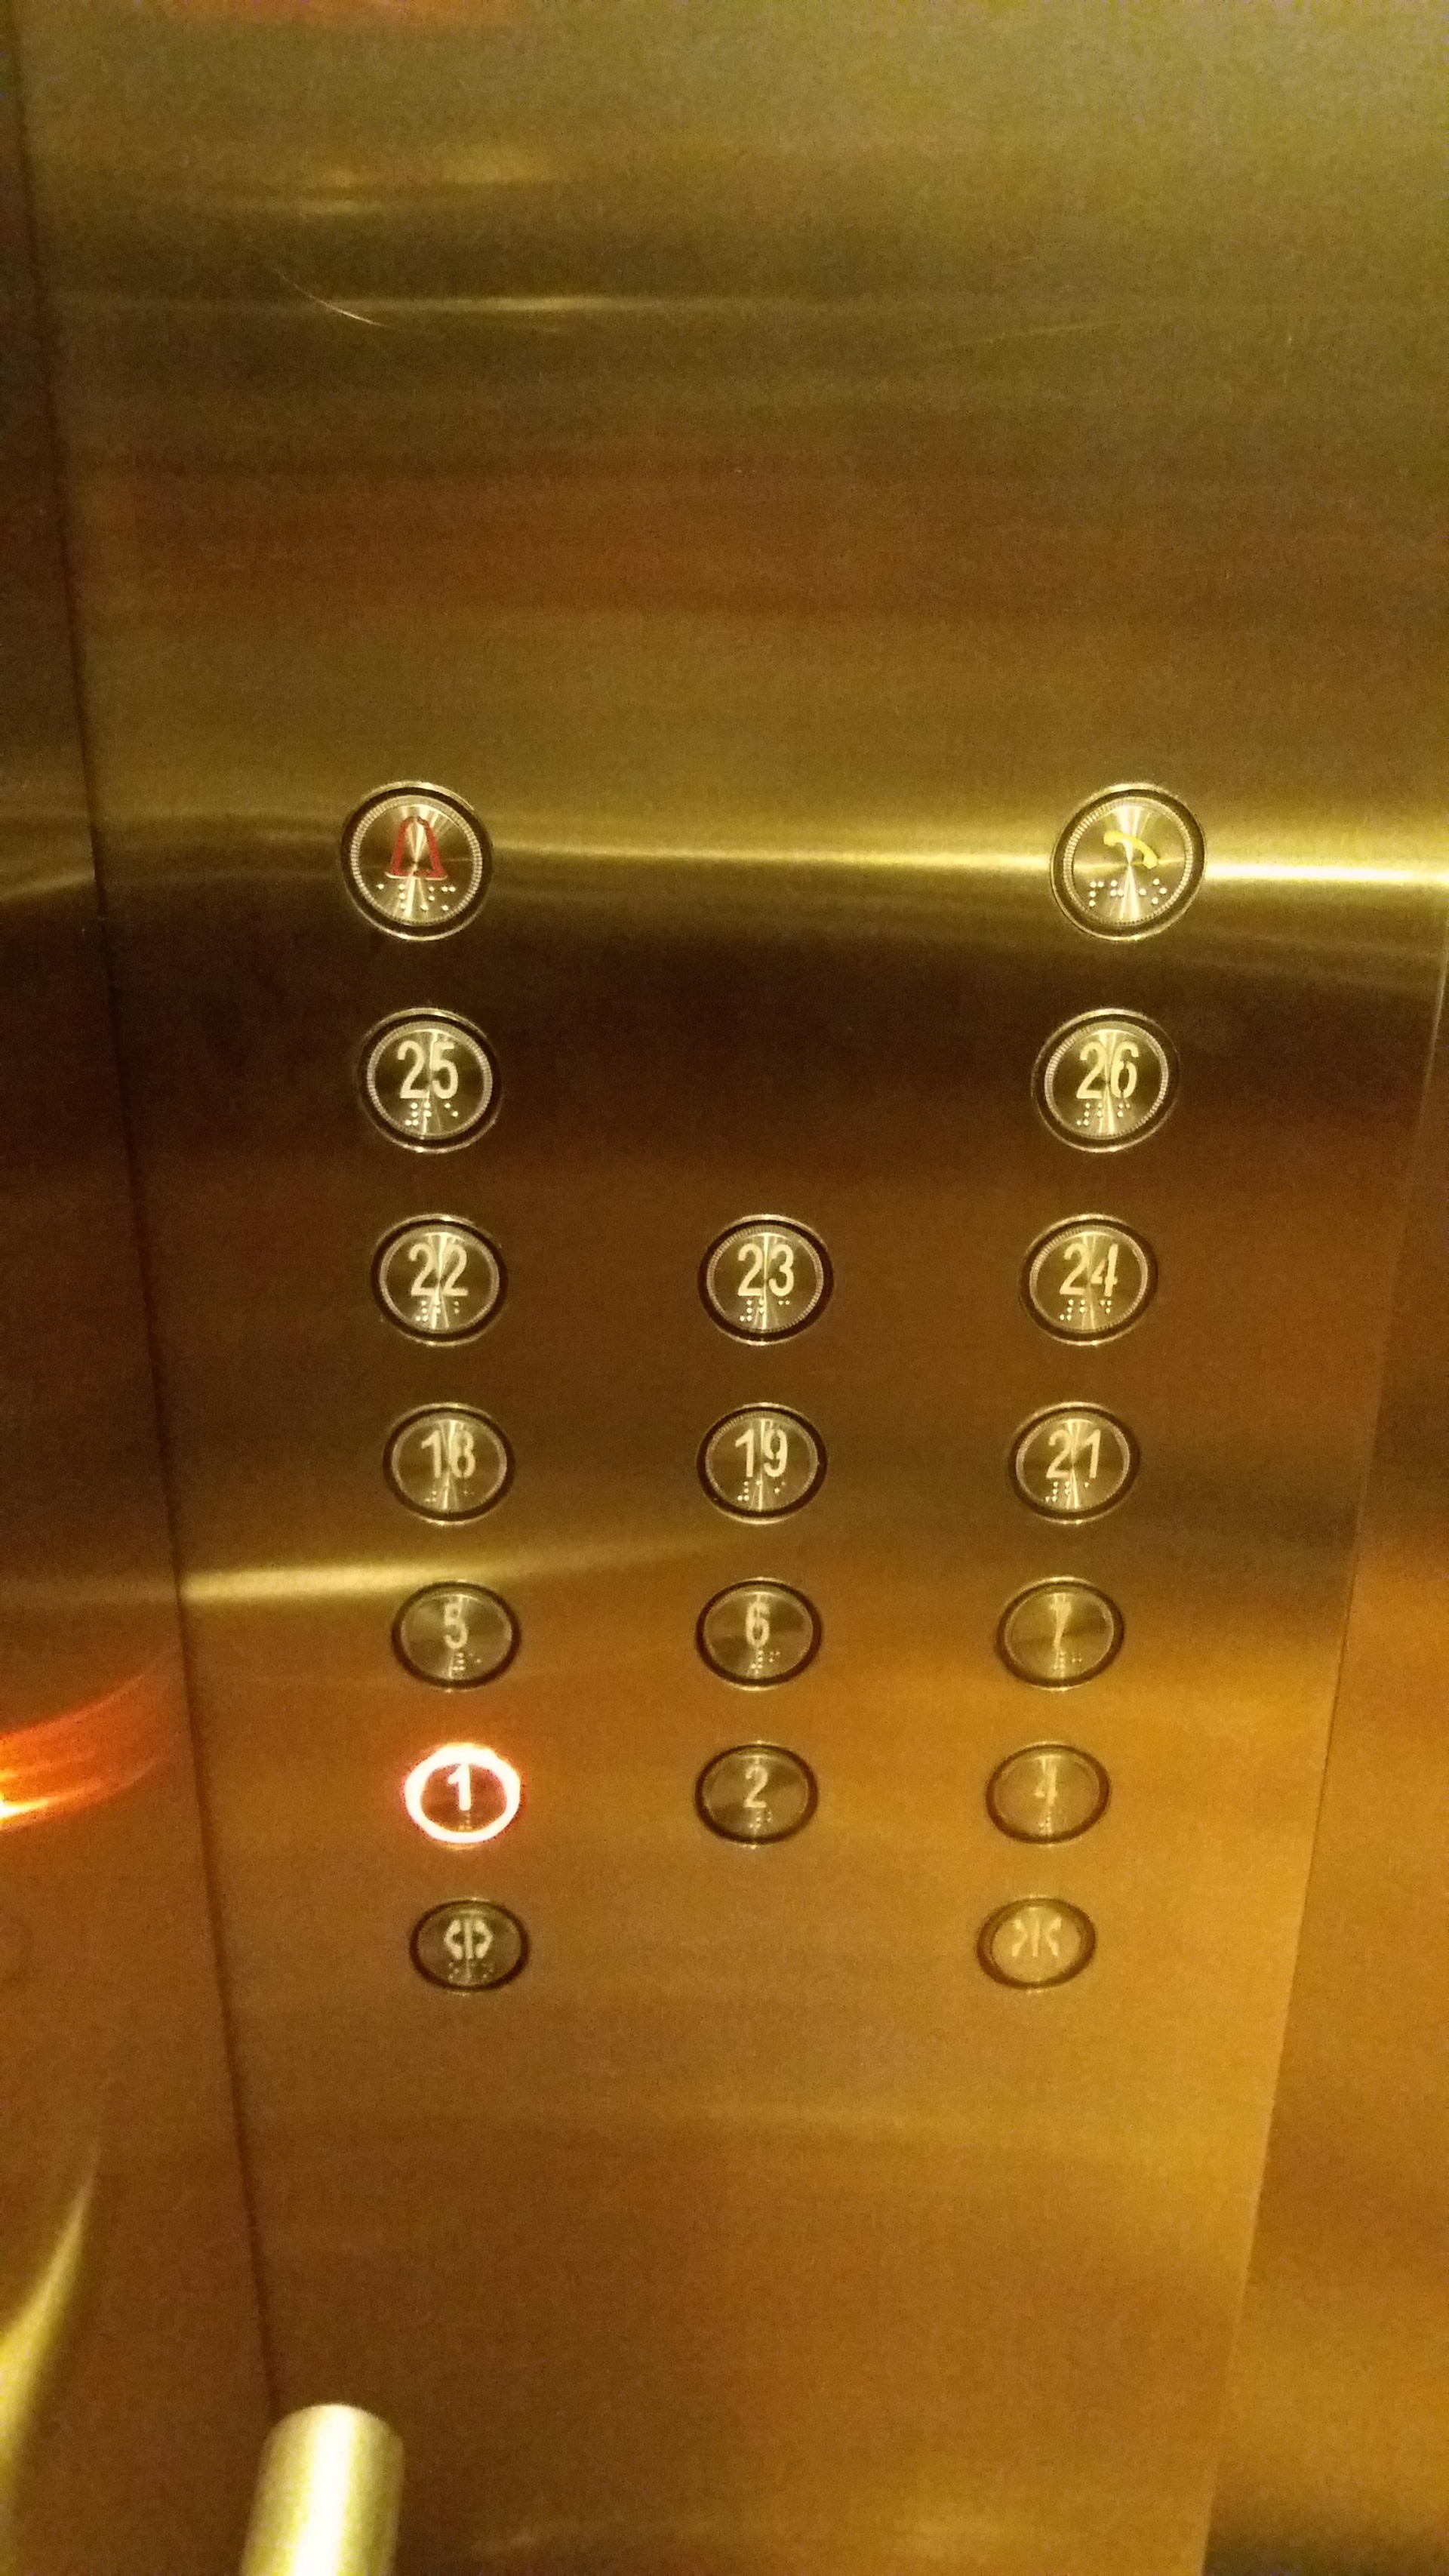1: (400, 1741, 527, 1849)
18: (377, 1398, 518, 1527)
19: (692, 1398, 833, 1527)
2: (692, 1741, 819, 1851)
21: (1001, 1398, 1145, 1527)
22: (364, 1210, 513, 1352)
23: (688, 1208, 839, 1350)
24: (1010, 1210, 1161, 1352)
25: (350, 1005, 510, 1159)
26: (1028, 1003, 1187, 1157)
4: (984, 1739, 1111, 1847)
5: (387, 1578, 522, 1691)
6: (692, 1576, 826, 1690)
7: (991, 1575, 1125, 1693)
alarm: (331, 777, 499, 945)
call: (1044, 778, 1212, 947)
close: (973, 1895, 1100, 1996)
open: (405, 1895, 534, 1996)
